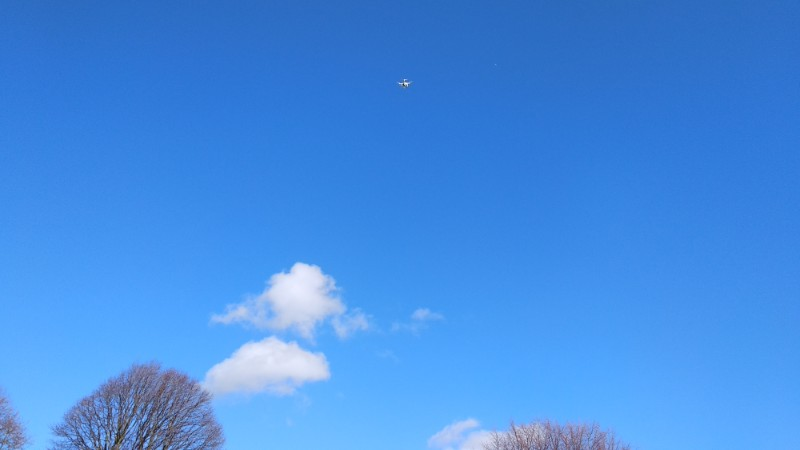drone: (396, 78, 413, 89)
